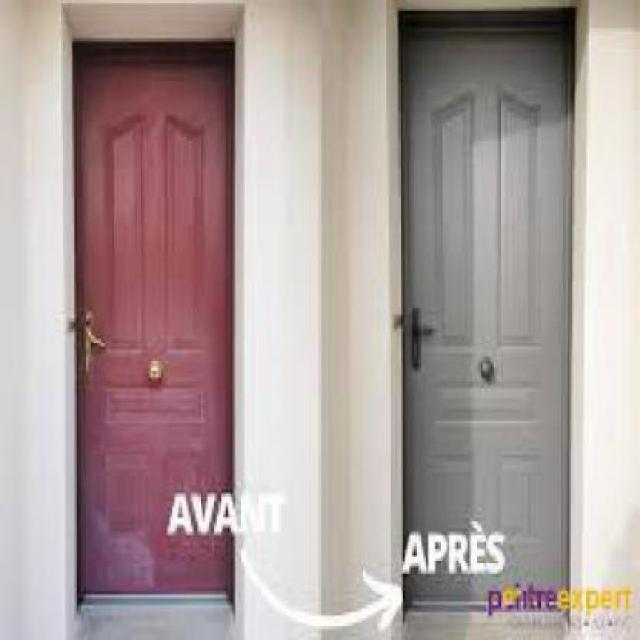door_handle: (75, 322, 111, 358), (400, 320, 446, 344)
